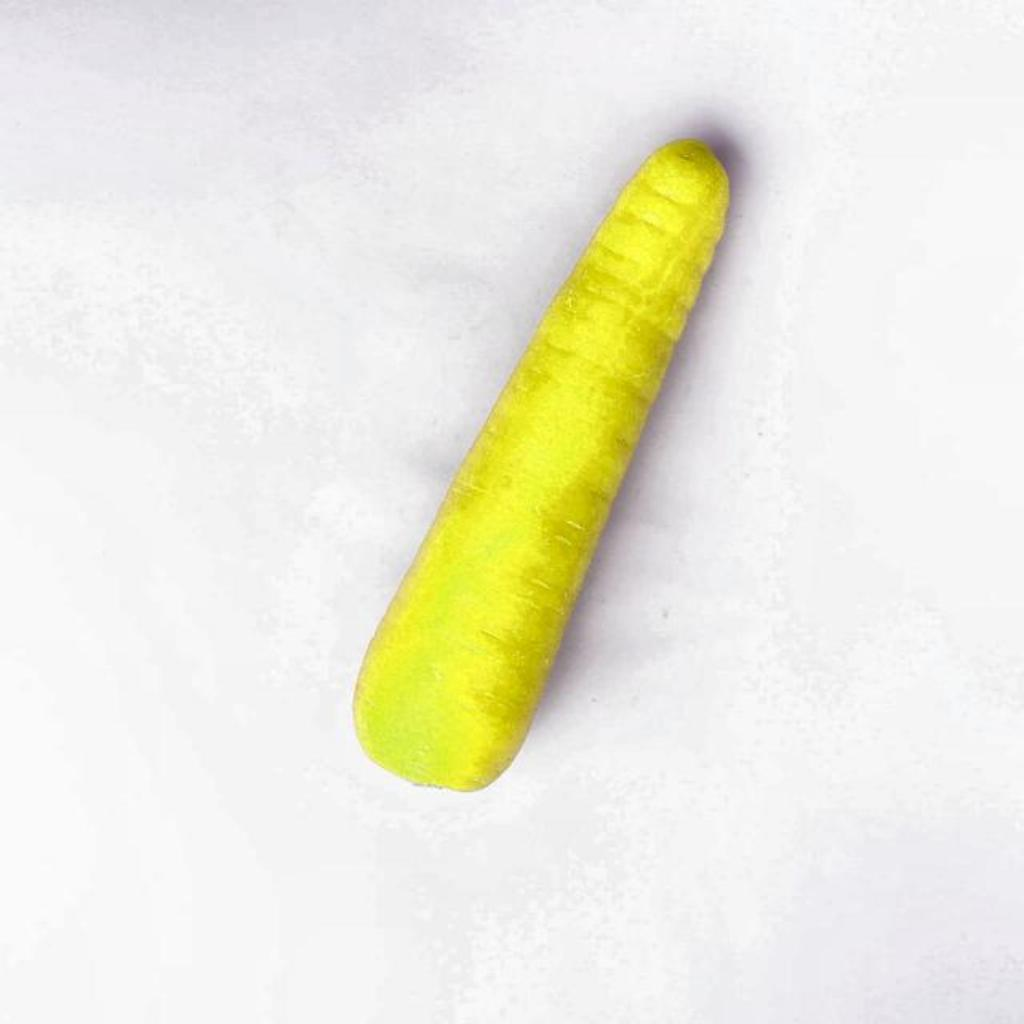carrot: (356, 140, 728, 789)
